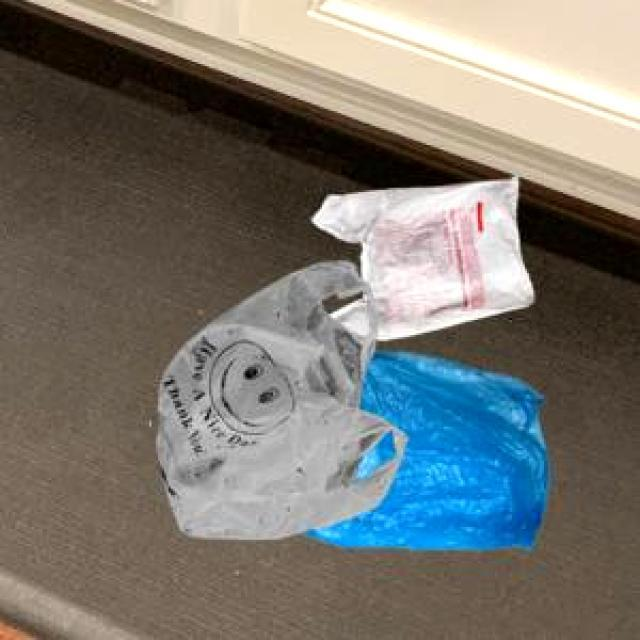Plastic_Bag: (154, 259, 404, 537), (298, 348, 546, 546), (308, 174, 530, 336)
